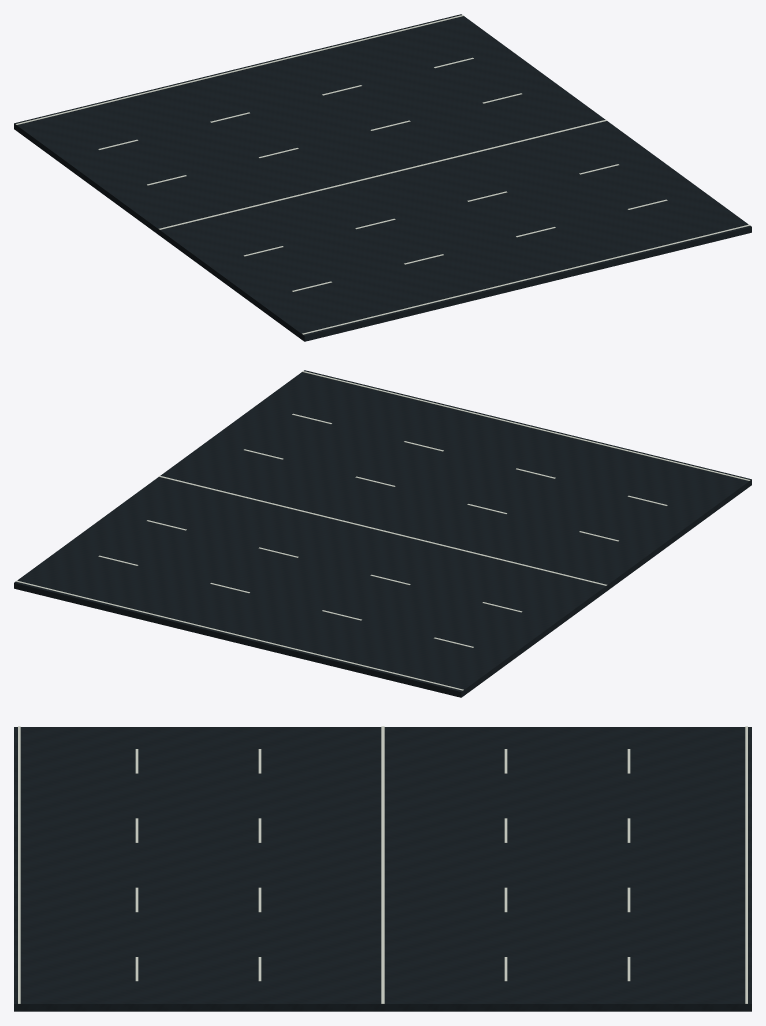
Rendered from Transit_Road_6L_Straight_16m.glb.
3 renders of one model, top to bottom at view 1: azimuth 30°, elevation 25°; view 2: azimuth 150°, elevation 25°; view 3: azimuth 270°, elevation 25°, orthographic. The views are drawn at different scales.
Parts seen in each view (by area): view 1: Transit_Road_6L_Straight_16m_Surface, Transit_Road_6L_Straight_16m_MarkLane3, Transit_Road_6L_Straight_16m_MarkEdge-1, Transit_Road_6L_Straight_16m_MarkEdge+1; view 2: Transit_Road_6L_Straight_16m_Surface, Transit_Road_6L_Straight_16m_MarkLane3, Transit_Road_6L_Straight_16m_MarkEdge+1, Transit_Road_6L_Straight_16m_MarkEdge-1; view 3: Transit_Road_6L_Straight_16m_Surface, Transit_Road_6L_Straight_16m_MarkLane3, Transit_Road_6L_Straight_16m_MarkEdge-1, Transit_Road_6L_Straight_16m_MarkEdge+1.
Part boxes in pixels (left/top/right/bottom): Transit_Road_6L_Straight_16m_Surface: left=14, top=14, right=751, bottom=341; Transit_Road_6L_Straight_16m_MarkLane3: left=159, top=120, right=607, bottom=229; Transit_Road_6L_Straight_16m_MarkEdge-1: left=302, top=224, right=750, bottom=334; Transit_Road_6L_Straight_16m_MarkEdge+1: left=15, top=15, right=463, bottom=124; Transit_Road_6L_Straight_16m_Surface: left=14, top=370, right=751, bottom=697; Transit_Road_6L_Straight_16m_MarkLane3: left=158, top=476, right=606, bottom=585; Transit_Road_6L_Straight_16m_MarkEdge+1: left=15, top=580, right=463, bottom=690; Transit_Road_6L_Straight_16m_MarkEdge-1: left=302, top=371, right=750, bottom=480; Transit_Road_6L_Straight_16m_Surface: left=14, top=727, right=751, bottom=1011; Transit_Road_6L_Straight_16m_MarkLane3: left=381, top=726, right=384, bottom=1003; Transit_Road_6L_Straight_16m_MarkEdge-1: left=18, top=726, right=20, bottom=1003; Transit_Road_6L_Straight_16m_MarkEdge+1: left=745, top=726, right=747, bottom=1003.
Bounding box in the file's own units: 16 × 0.212 × 18.
2 materials, 1 textured.
